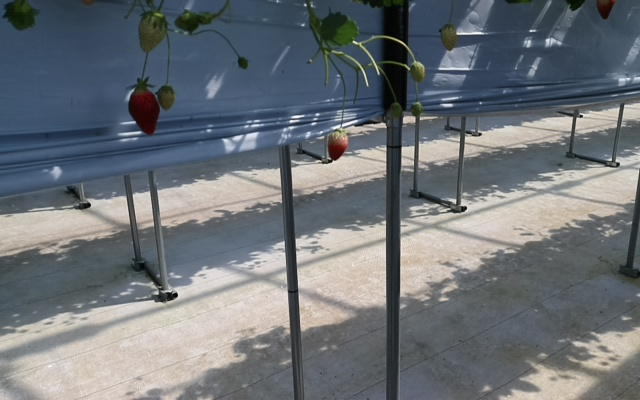GreenStrawberry: (138, 9, 167, 56), (157, 85, 176, 112), (439, 25, 458, 51), (410, 60, 427, 85)
MatureStrawberry: (127, 86, 160, 137), (326, 130, 348, 160)
